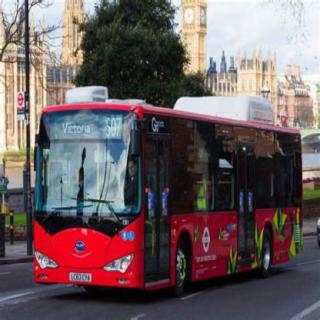Normal_vehicle: (20, 65, 315, 300)
